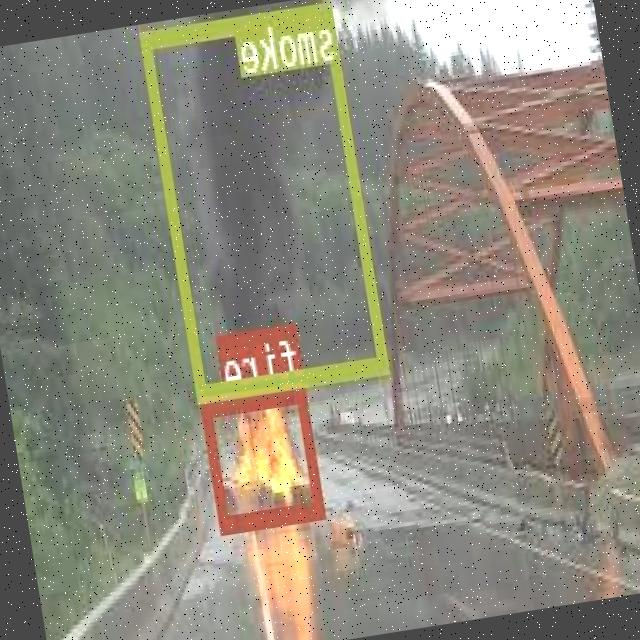fire: (202, 382, 328, 530)
smoke: (142, 2, 390, 400)
